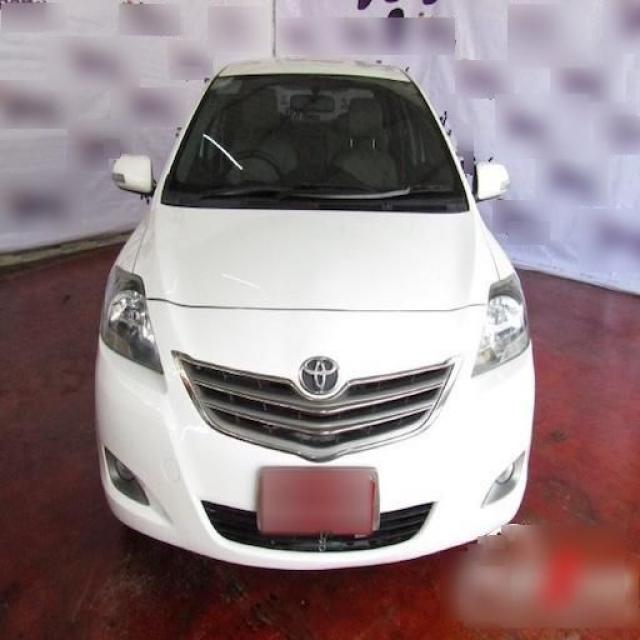front_bumper: (95, 301, 536, 570)
front_glass: (160, 74, 469, 214)
front_left_light: (474, 274, 531, 379)
front_right_light: (100, 263, 165, 374)
hood: (132, 202, 500, 312)
left_mirror: (473, 162, 511, 204)
right_mirror: (110, 156, 155, 198)
